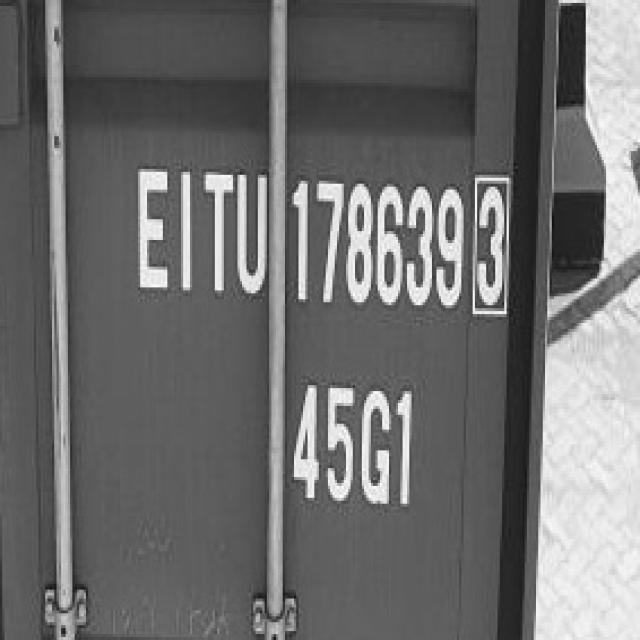dv: (470, 160, 518, 324)
owner: (123, 142, 272, 307)
serial: (288, 153, 466, 319)
size: (291, 372, 424, 528)
